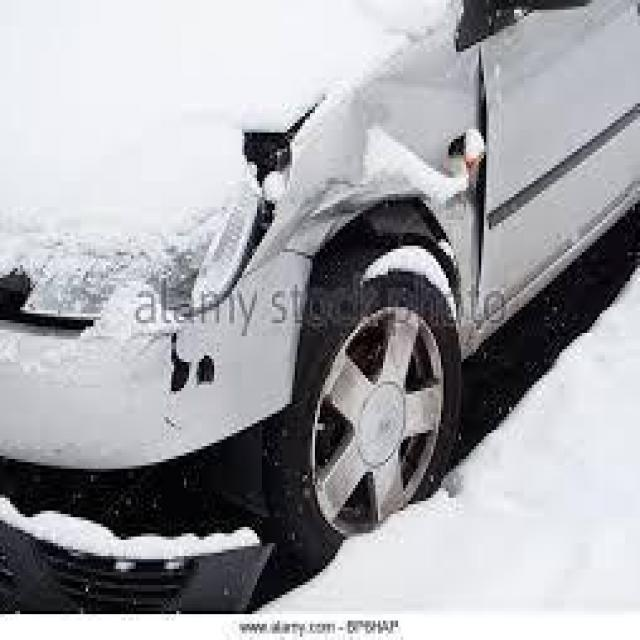damaged: (266, 45, 492, 330)
